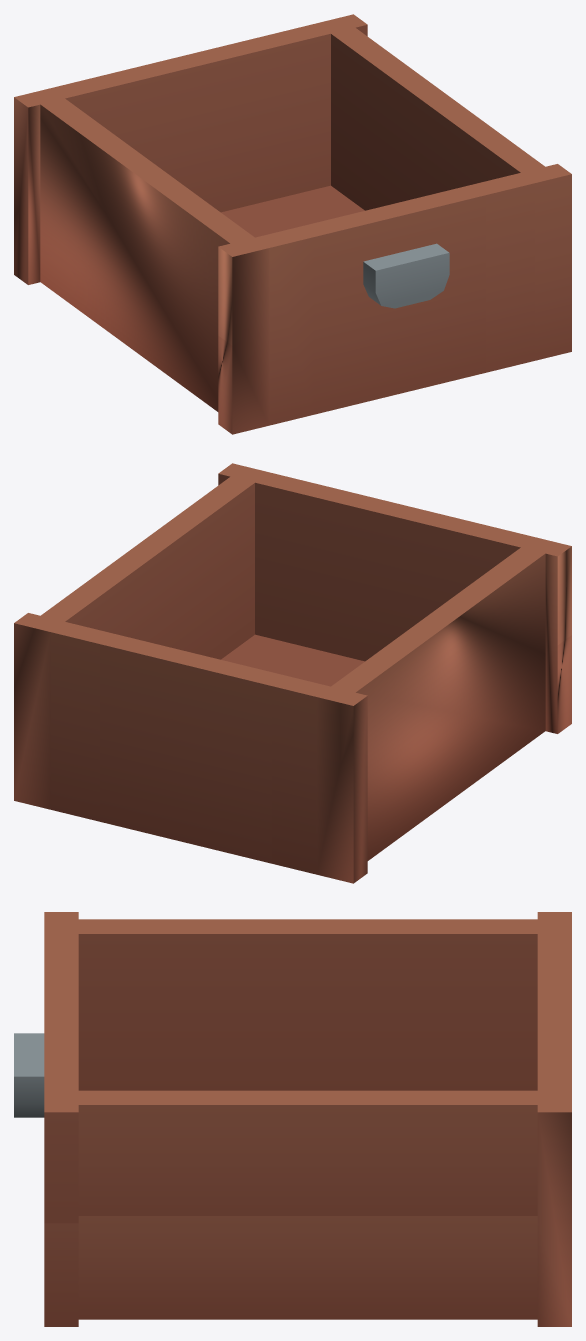
File: drawer.glb
The picture shows the model from 3 angles, top to bottom: view 1: azimuth 30°, elevation 25°; view 2: azimuth 150°, elevation 25°; view 3: azimuth 270°, elevation 25°; orthographic projection. The views are drawn at different scales.
Parts seen in each view (by area): view 1: drawer; view 2: drawer; view 3: drawer.
Boxes of the visible parts, x1,y1,x2,y2 form: drawer: (14, 14, 571, 434); drawer: (14, 463, 571, 883); drawer: (14, 912, 571, 1326).
Bounding box in the file's own units: 1.38 × 0.6904 × 1.63.
Materials: 1 (1 with a texture image).
